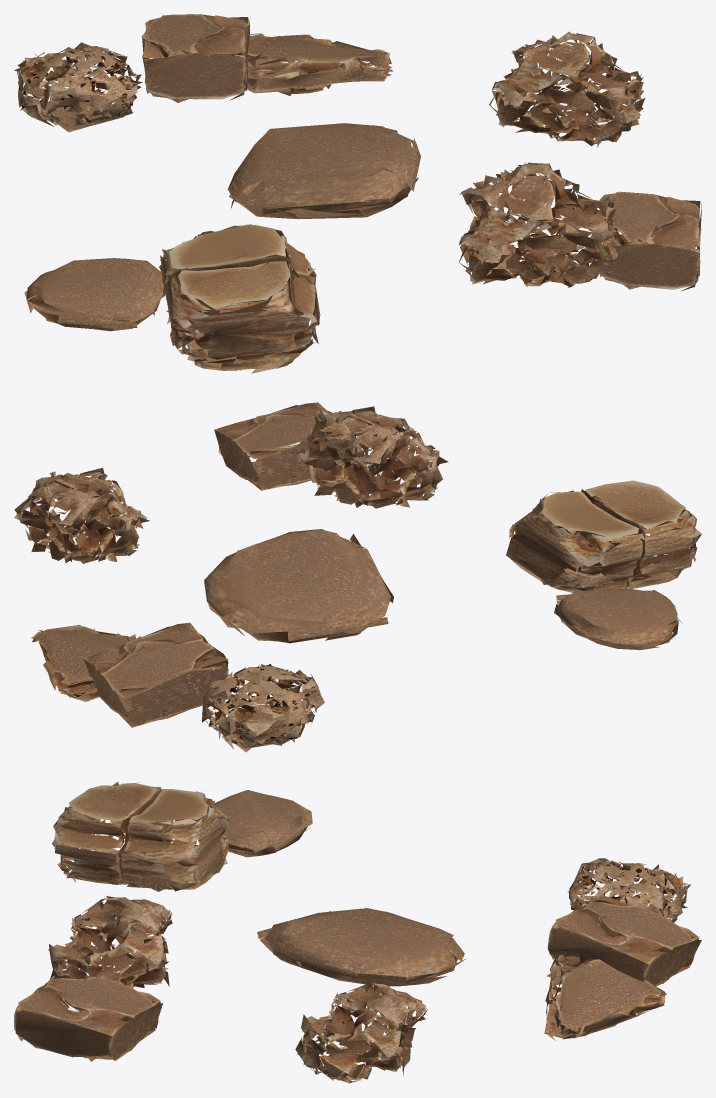
File: desert_pebble_b_scatter.glb
3 views of the same model, one above another, from view 1: azimuth 30°, elevation 25°; view 2: azimuth 150°, elevation 25°; view 3: azimuth 270°, elevation 25° (orthographic). The views are drawn at different scales.
Parts seen in each view (by area): view 1: desert_pebble_b_scatter; view 2: desert_pebble_b_scatter; view 3: desert_pebble_b_scatter.
Part boxes in pixels (left/top/right/bottom): desert_pebble_b_scatter: left=14, top=14, right=701, bottom=373; desert_pebble_b_scatter: left=14, top=402, right=701, bottom=752; desert_pebble_b_scatter: left=14, top=782, right=701, bottom=1083.
Bounding box in the file's own units: 5.37 × 0.8626 × 5.39.
Materials: 6 (6 with a texture image).
